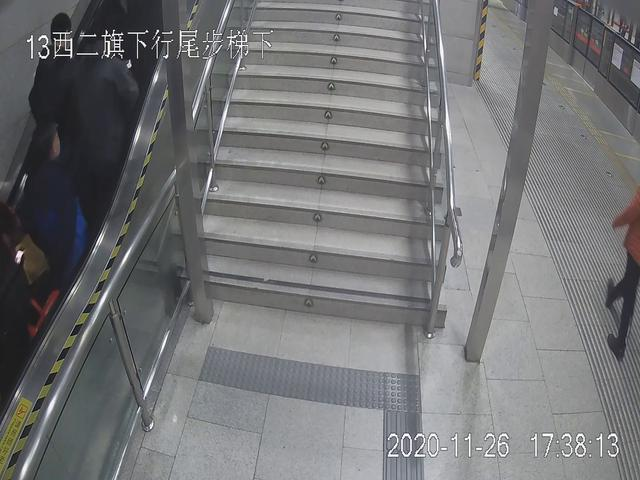person: (18, 125, 85, 282)
